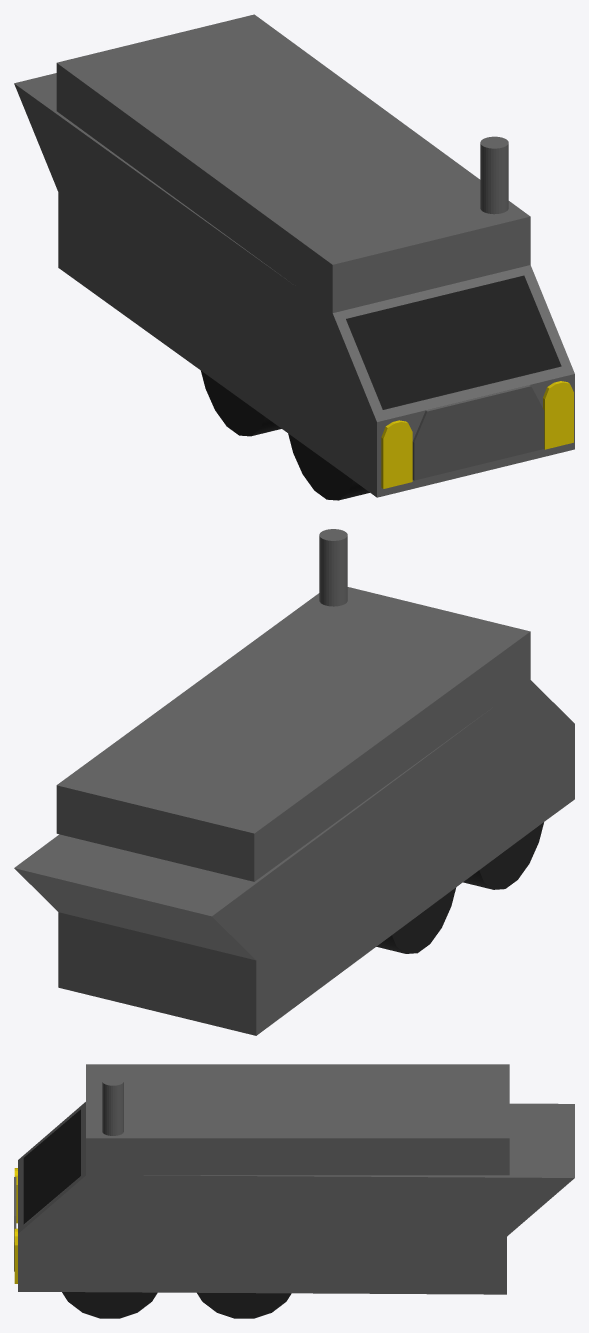
The model's file is Truck.fbx.
3 views of the same model, one above another, from view 1: azimuth 30°, elevation 25°; view 2: azimuth 150°, elevation 25°; view 3: azimuth 270°, elevation 25° (orthographic). The views are drawn at different scales.
Visible parts, largest first — view 1: Cube, Cube.001, Cylinder.001, Cylinder.002; view 2: Cube, Cylinder.001, Cylinder.002; view 3: Cube, Cylinder, Cylinder.003, Cube.001.
Part boxes in pixels (bbox=[...]): Cube: bbox=[14, 14, 574, 497]; Cube.001: bbox=[381, 381, 573, 488]; Cylinder.001: bbox=[288, 433, 369, 500]; Cylinder.002: bbox=[201, 371, 281, 436]; Cube: bbox=[14, 529, 574, 1035]; Cylinder.001: bbox=[463, 822, 543, 889]; Cylinder.002: bbox=[376, 887, 456, 953]; Cube: bbox=[14, 1064, 574, 1294]; Cylinder: bbox=[62, 1292, 157, 1318]; Cylinder.003: bbox=[197, 1292, 291, 1318]; Cube.001: bbox=[14, 1168, 17, 1283].
Bounding box in the file's own units: 6.94 × 22.19 × 10.31.
